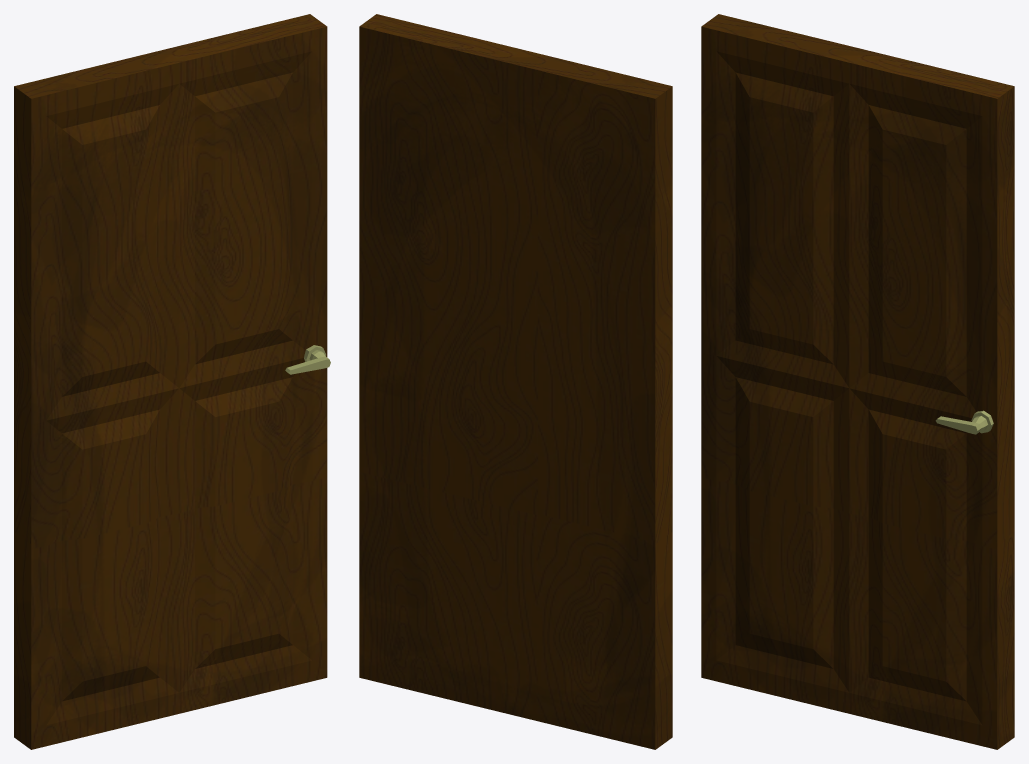
The model's file is Door.fbx.
3 renders of one model, left to right at view 1: azimuth 30°, elevation 25°; view 2: azimuth 150°, elevation 25°; view 3: azimuth 330°, elevation 25°, orthographic.
Parts seen in each view (by area): view 1: SingleDoor; view 2: SingleDoor; view 3: SingleDoor.
Part boxes in pixels (x1,y1,x2,y2): SingleDoor: (14,14,330,749); SingleDoor: (359,14,672,749); SingleDoor: (701,14,1014,749).
Size of the model in its own units: 85.68 by 180 by 14.5.
